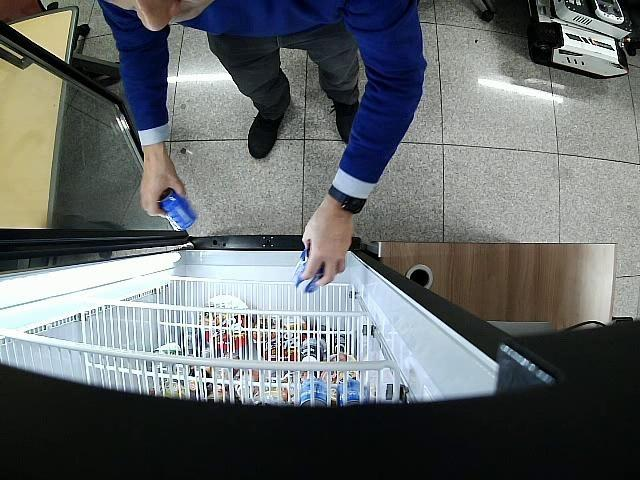13_pocariSweat: (158, 189, 198, 231), (290, 244, 324, 292)
